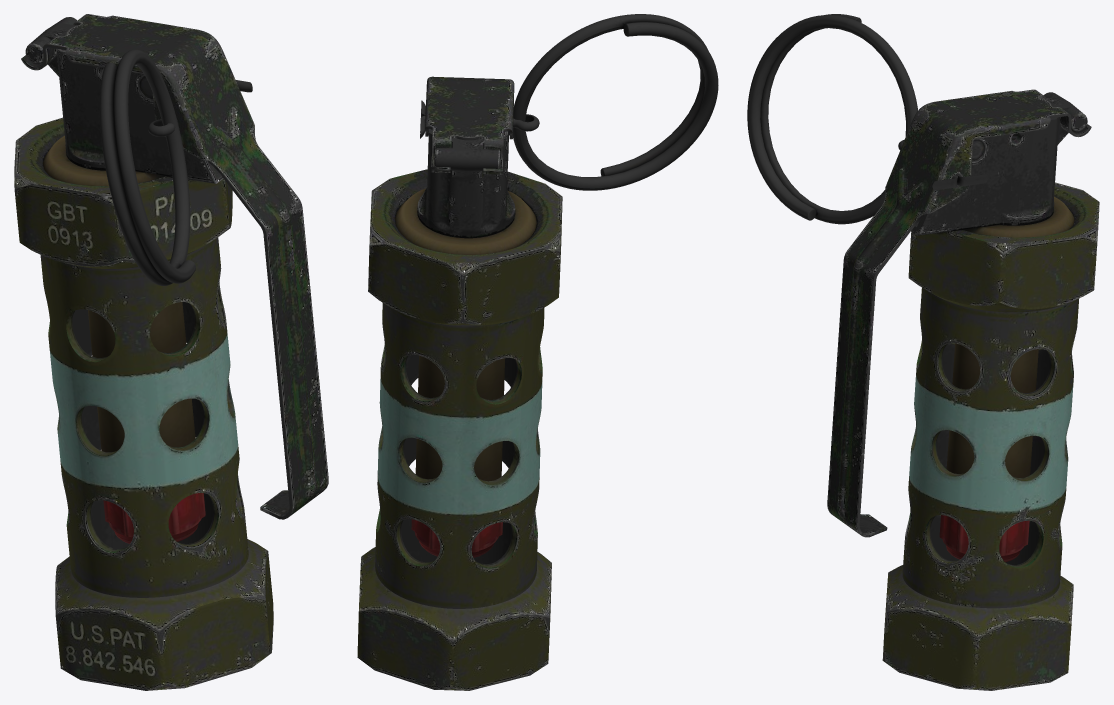
The model's file is flashbang_r.glb.
3 renders of one model, left to right at view 1: azimuth 30°, elevation 25°; view 2: azimuth 150°, elevation 25°; view 3: azimuth 270°, elevation 25°, orthographic. The views are drawn at different scales.
Parts seen in each view (by area): view 1: v_flashbang_R; view 2: v_flashbang_R; view 3: v_flashbang_R.
Part boxes in pixels (x1,y1,x2,y2): v_flashbang_R: [14, 14, 328, 690]; v_flashbang_R: [357, 14, 718, 690]; v_flashbang_R: [747, 14, 1099, 690].
Size of the model in its own units: 0.0671 by 0.1552 by 0.0834.
1 material, 1 textured.
